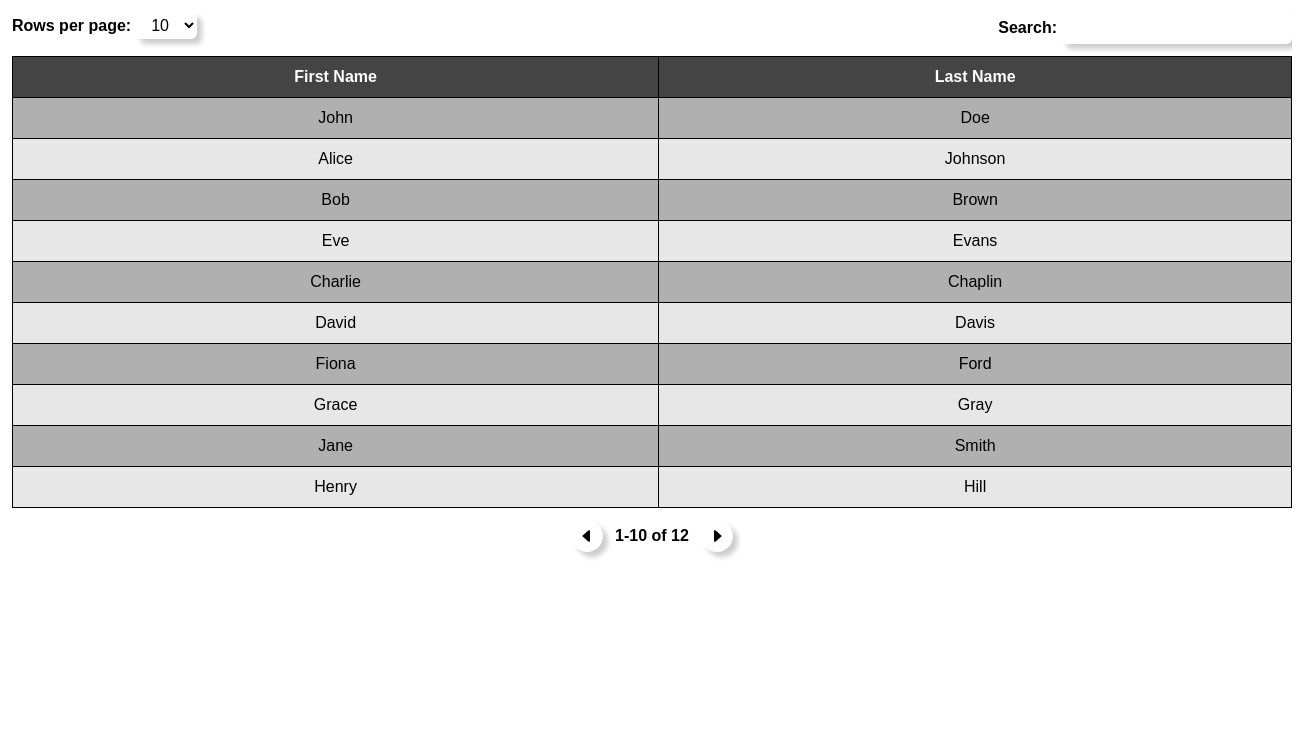
it: <DataTable/> › shows no result after filtering
The image size is (1304, 732).
Type "Monica" into the field with test id "filter".
click(1176, 28); type("Monica")  # box [1061, 12, 1292, 44]
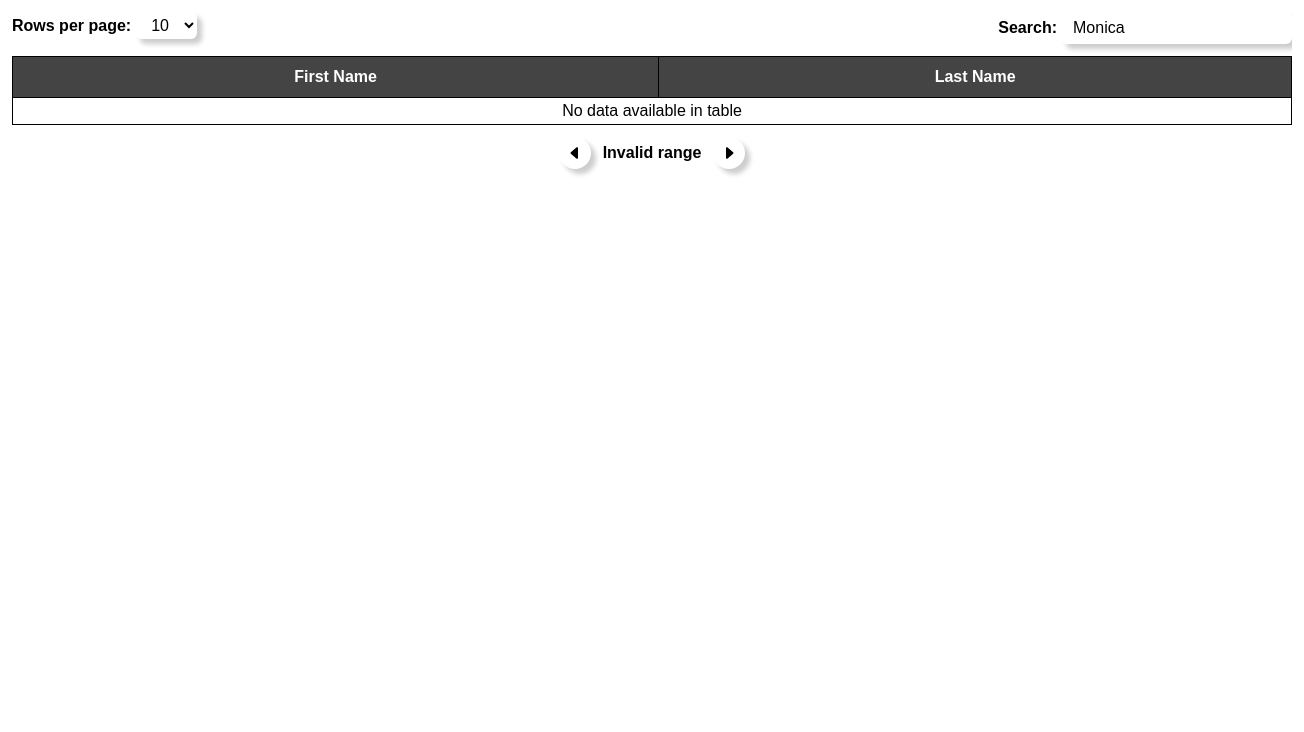
Expected: the text "No data available in table" is shown, [12, 98, 1292, 124]
